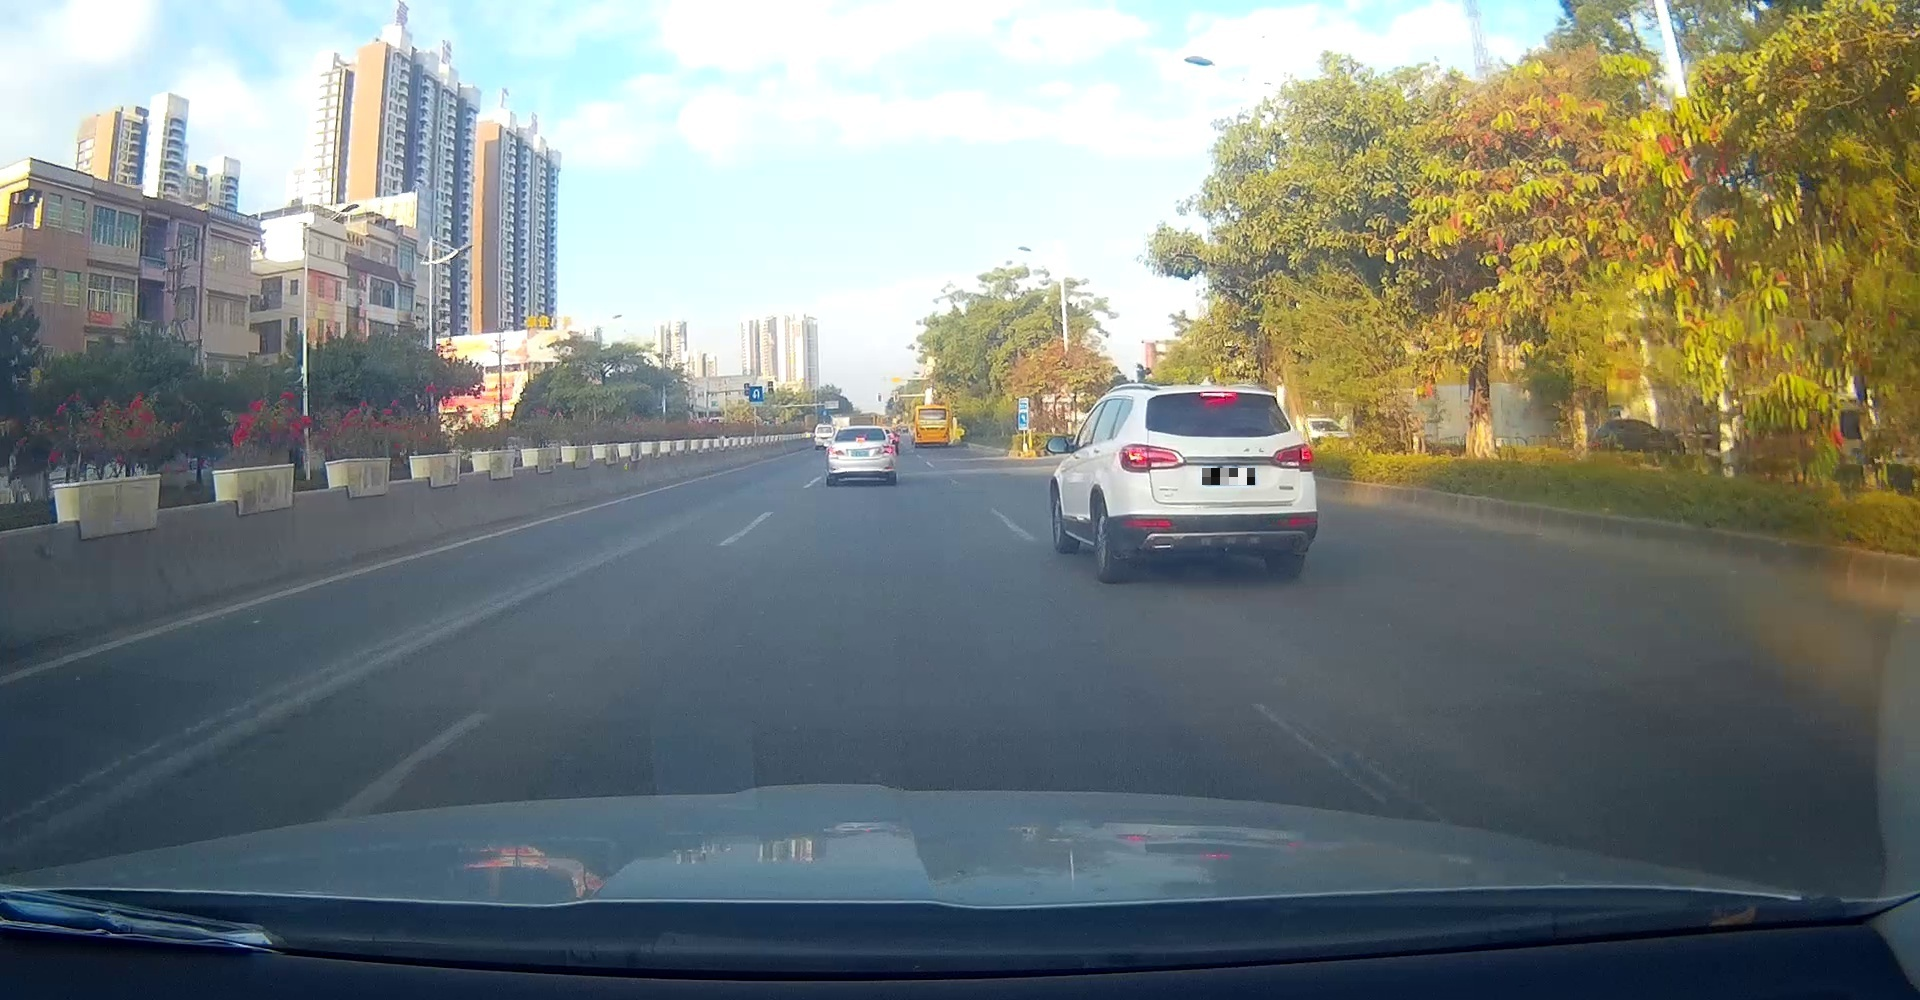L_light: (1117, 443, 1185, 472), (827, 448, 844, 456), (916, 428, 921, 438)
R_light: (1272, 443, 1313, 472), (879, 445, 895, 453), (943, 426, 949, 438)
T_light: (1200, 392, 1238, 398), (855, 437, 866, 442), (930, 418, 937, 420)
day-brake: (1112, 383, 1318, 582), (825, 425, 897, 486)
day-no: (914, 405, 951, 447)
plate_1: (1203, 468, 1255, 485)
